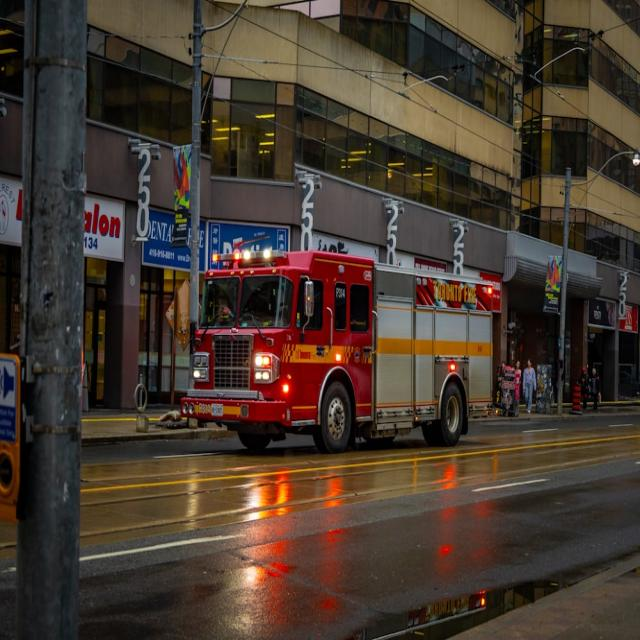emergency: (181, 251, 492, 451)
